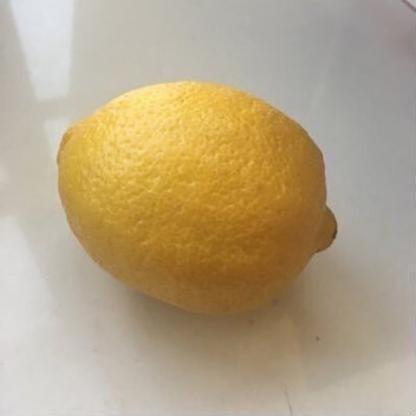lemon: (55, 78, 338, 317)
